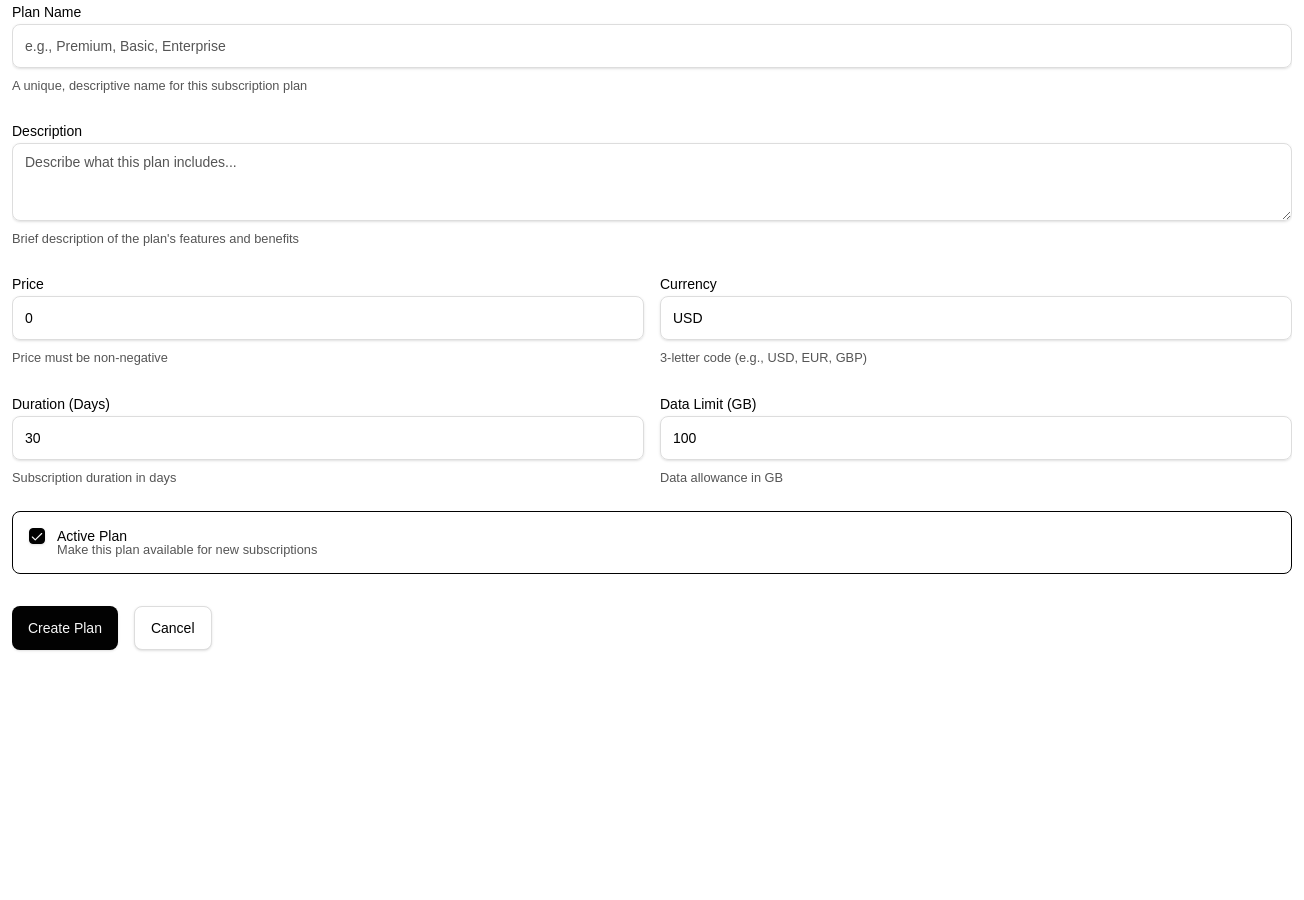
Test: PlanCreationForm › validates currency is exactly 3 characters
Type "US" into the field labelled "Currency" at (976, 318), box [660,296,1292,340]
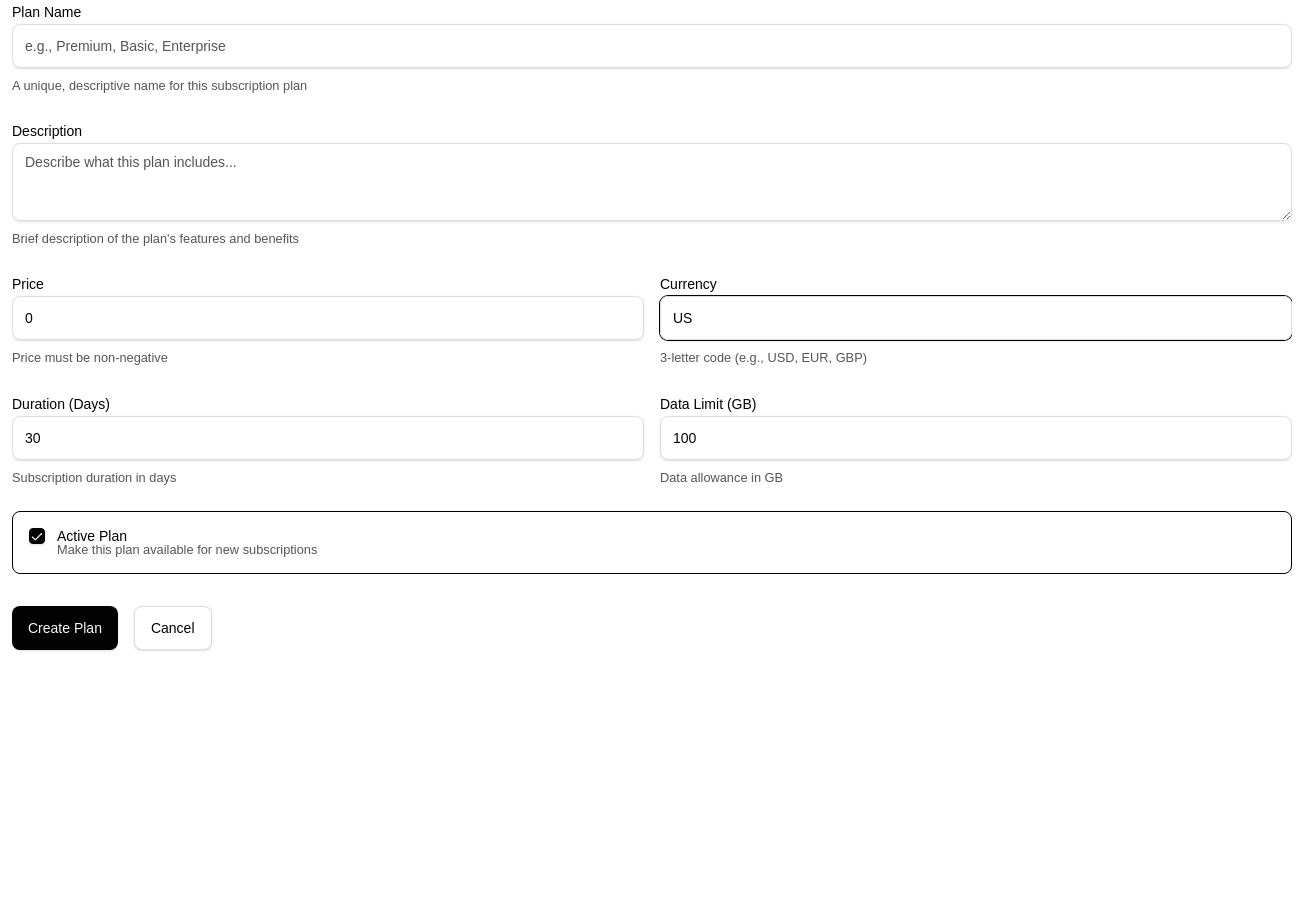
Click the button "Create Plan" at (65, 628), box [12,606,118,650]
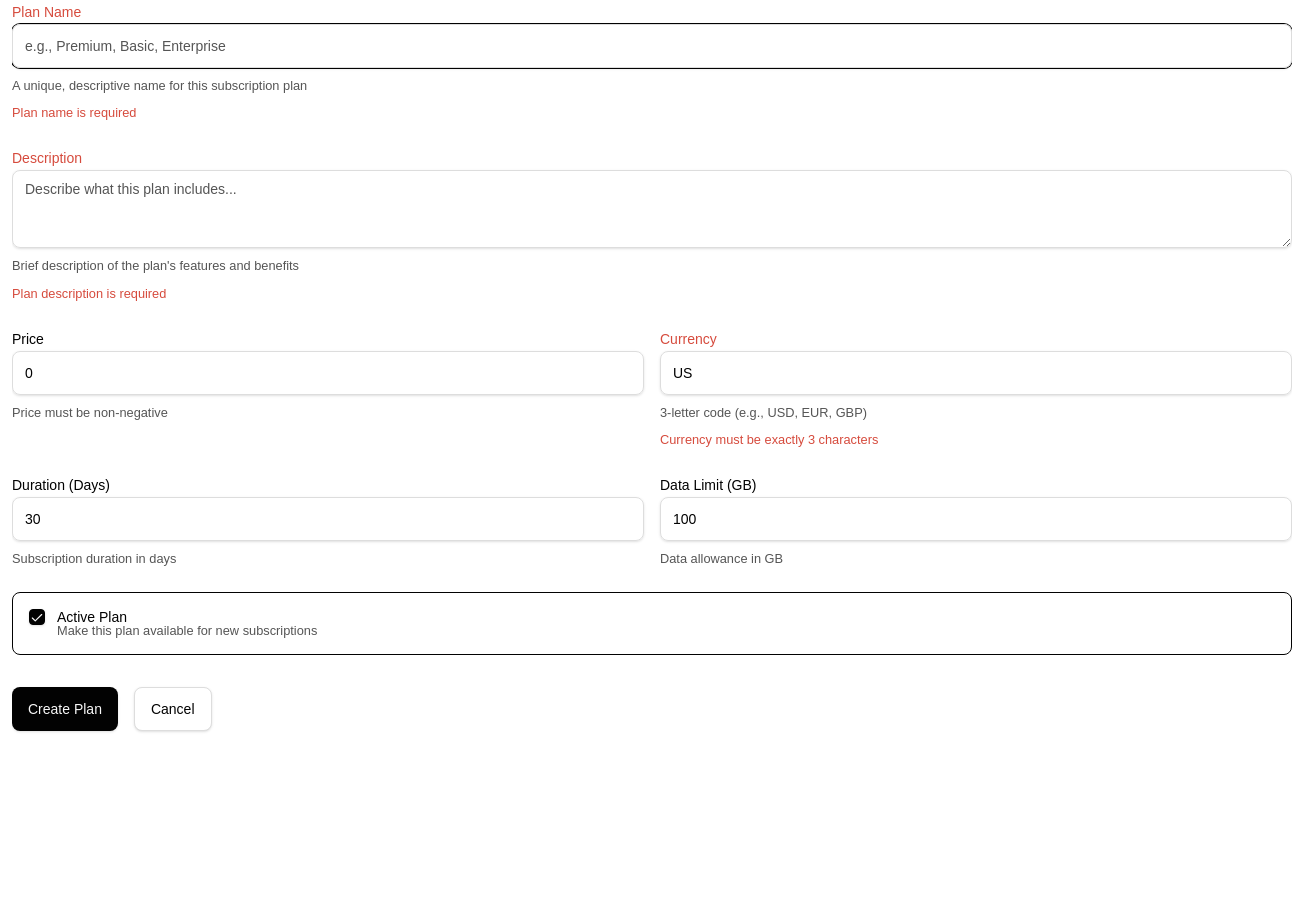
Now the text "Currency must be exactly 3 characters" is shown, box [660,432,878,447]
